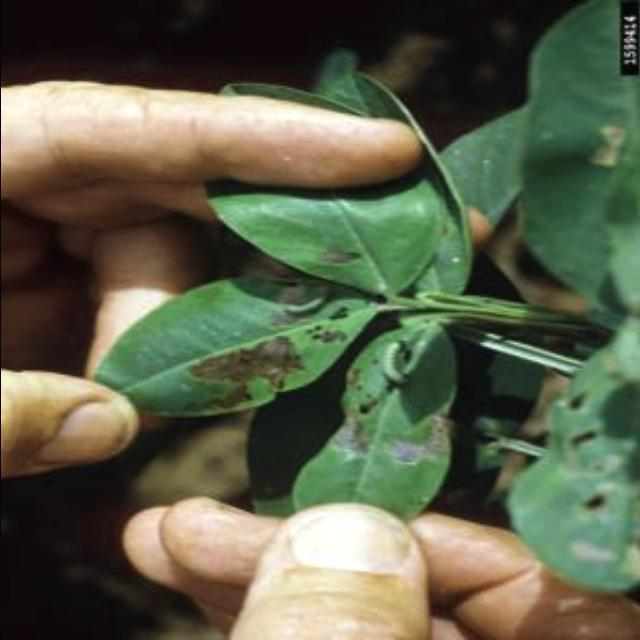Beet armyworm: (361, 321, 425, 404)
